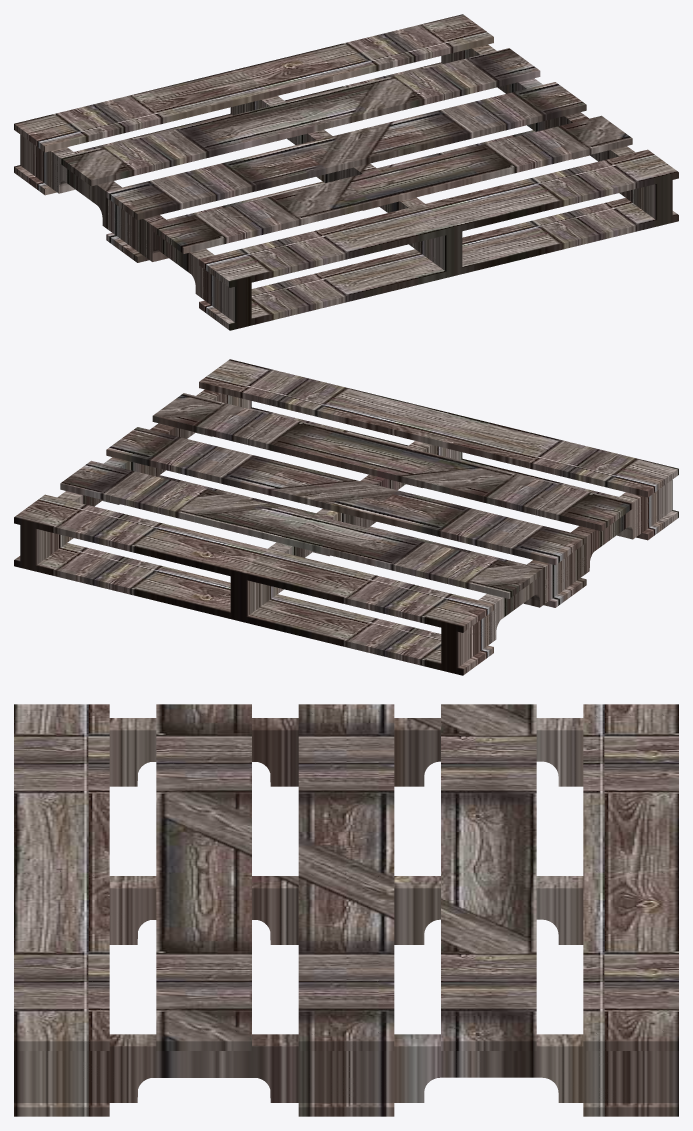
Rendered from pallet.obj.
The picture shows the model from 3 angles, top to bottom: view 1: azimuth 30°, elevation 25°; view 2: azimuth 150°, elevation 25°; view 3: azimuth 270°, elevation 25°; orthographic projection. The views are drawn at different scales.
Visible parts, largest first — view 1: Pallet___W; view 2: Pallet___W; view 3: Pallet___W.
Part boxes in pixels (<box>): Pallet___W: <box>14,14,678,330</box>; Pallet___W: <box>14,359,678,675</box>; Pallet___W: <box>14,704,678,1116</box>.
Bounding box in the file's own units: 48 × 5.03 × 40.
1 material, 1 textured.
